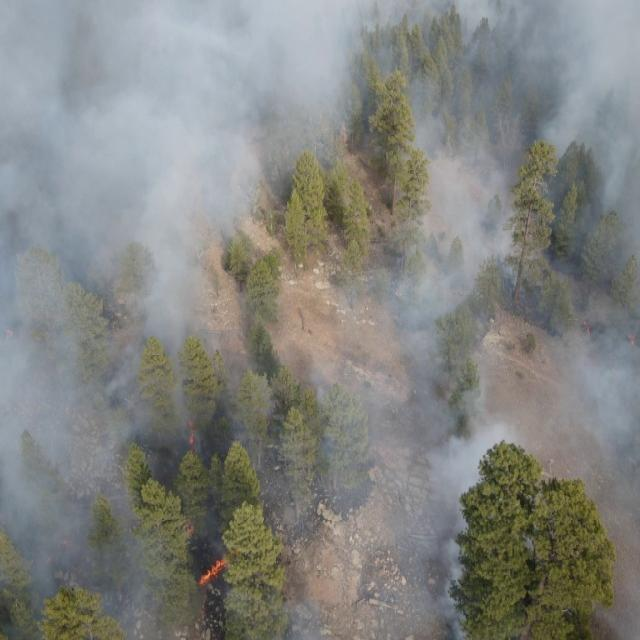fire: (189, 544, 244, 594), (48, 530, 79, 558), (182, 414, 199, 464), (174, 511, 203, 538)
smoke: (0, 360, 462, 640), (0, 1, 347, 234), (347, 0, 640, 232), (325, 235, 640, 359), (0, 235, 212, 357), (464, 362, 640, 482), (603, 486, 640, 639)
